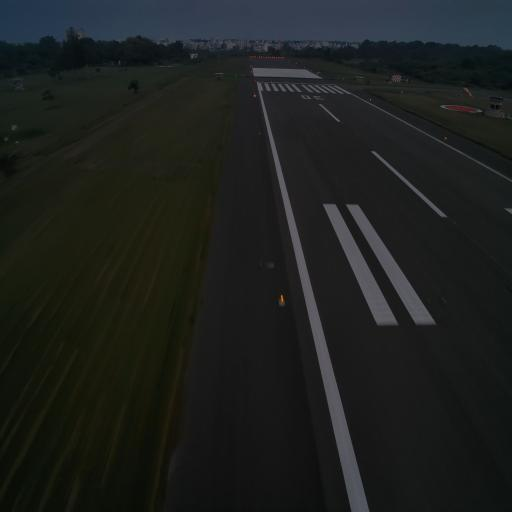off: (426, 293, 433, 306), (442, 294, 446, 306), (334, 175, 338, 181), (352, 175, 355, 182), (344, 176, 347, 182)
on: (278, 291, 285, 308), (444, 135, 448, 142), (258, 130, 262, 136), (356, 133, 359, 138), (341, 121, 344, 125)
